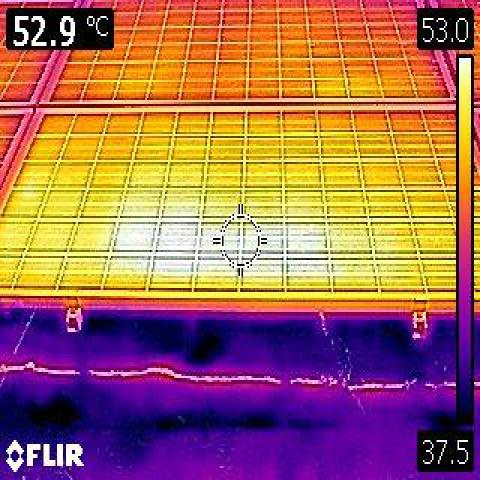fault: (125, 209, 212, 279)
